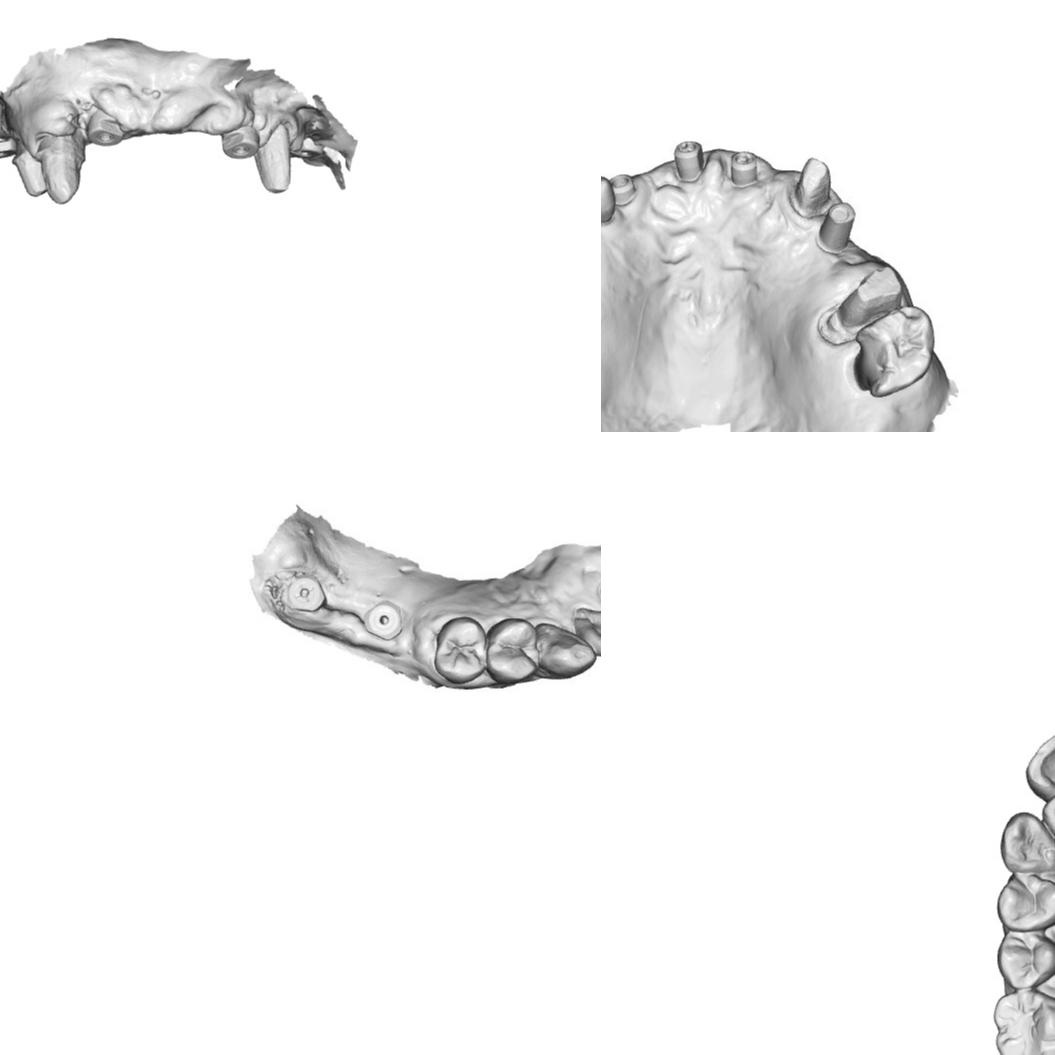abutment: (812, 201, 861, 254)
canine: (997, 810, 1055, 877), (538, 622, 593, 678)
crown: (830, 262, 905, 336), (33, 126, 84, 206), (255, 124, 295, 200), (793, 153, 837, 218), (12, 148, 50, 200)
implant: (216, 120, 262, 162), (363, 599, 404, 643), (727, 149, 763, 192), (674, 138, 707, 182), (85, 110, 120, 150), (606, 173, 640, 205), (294, 135, 324, 165), (0, 133, 19, 161)
implant_plus: (284, 575, 323, 616)
incisor: (1025, 730, 1055, 819), (578, 605, 601, 652), (1042, 784, 1055, 852)
molar: (856, 303, 936, 398), (991, 987, 1055, 1055)
premolar: (995, 923, 1055, 992), (484, 616, 539, 686), (994, 873, 1055, 934), (435, 617, 486, 681), (601, 162, 617, 219)
